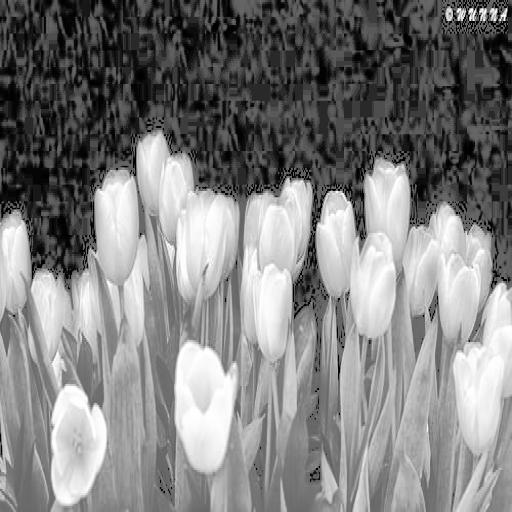tulip: (174, 336, 241, 474), (50, 386, 109, 510), (454, 344, 502, 453), (94, 172, 139, 285), (366, 156, 412, 262), (182, 191, 226, 300), (349, 239, 396, 340), (318, 187, 360, 298), (480, 275, 512, 407), (253, 260, 293, 365), (437, 252, 479, 350), (282, 172, 312, 288), (260, 191, 297, 283), (244, 187, 278, 281), (137, 128, 172, 214), (404, 229, 438, 317), (32, 268, 68, 350), (162, 157, 191, 237)
